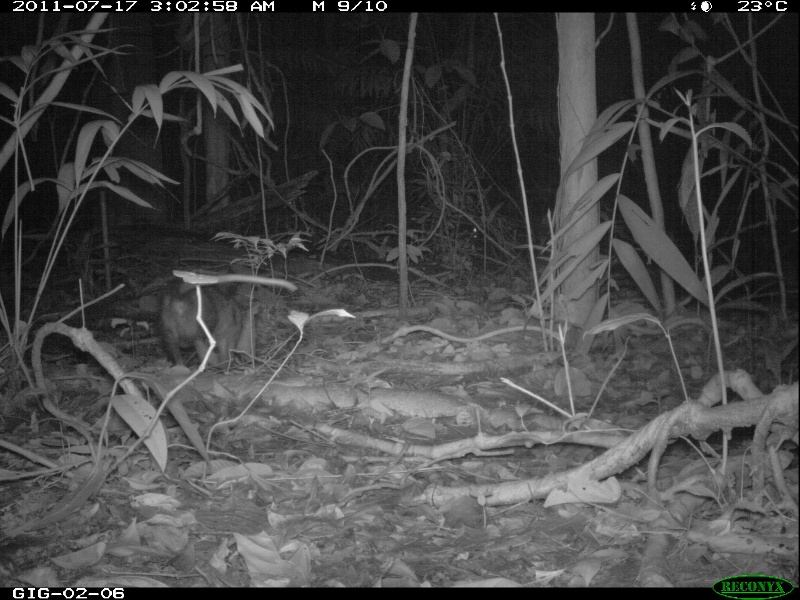opossum: (154, 256, 250, 378)
